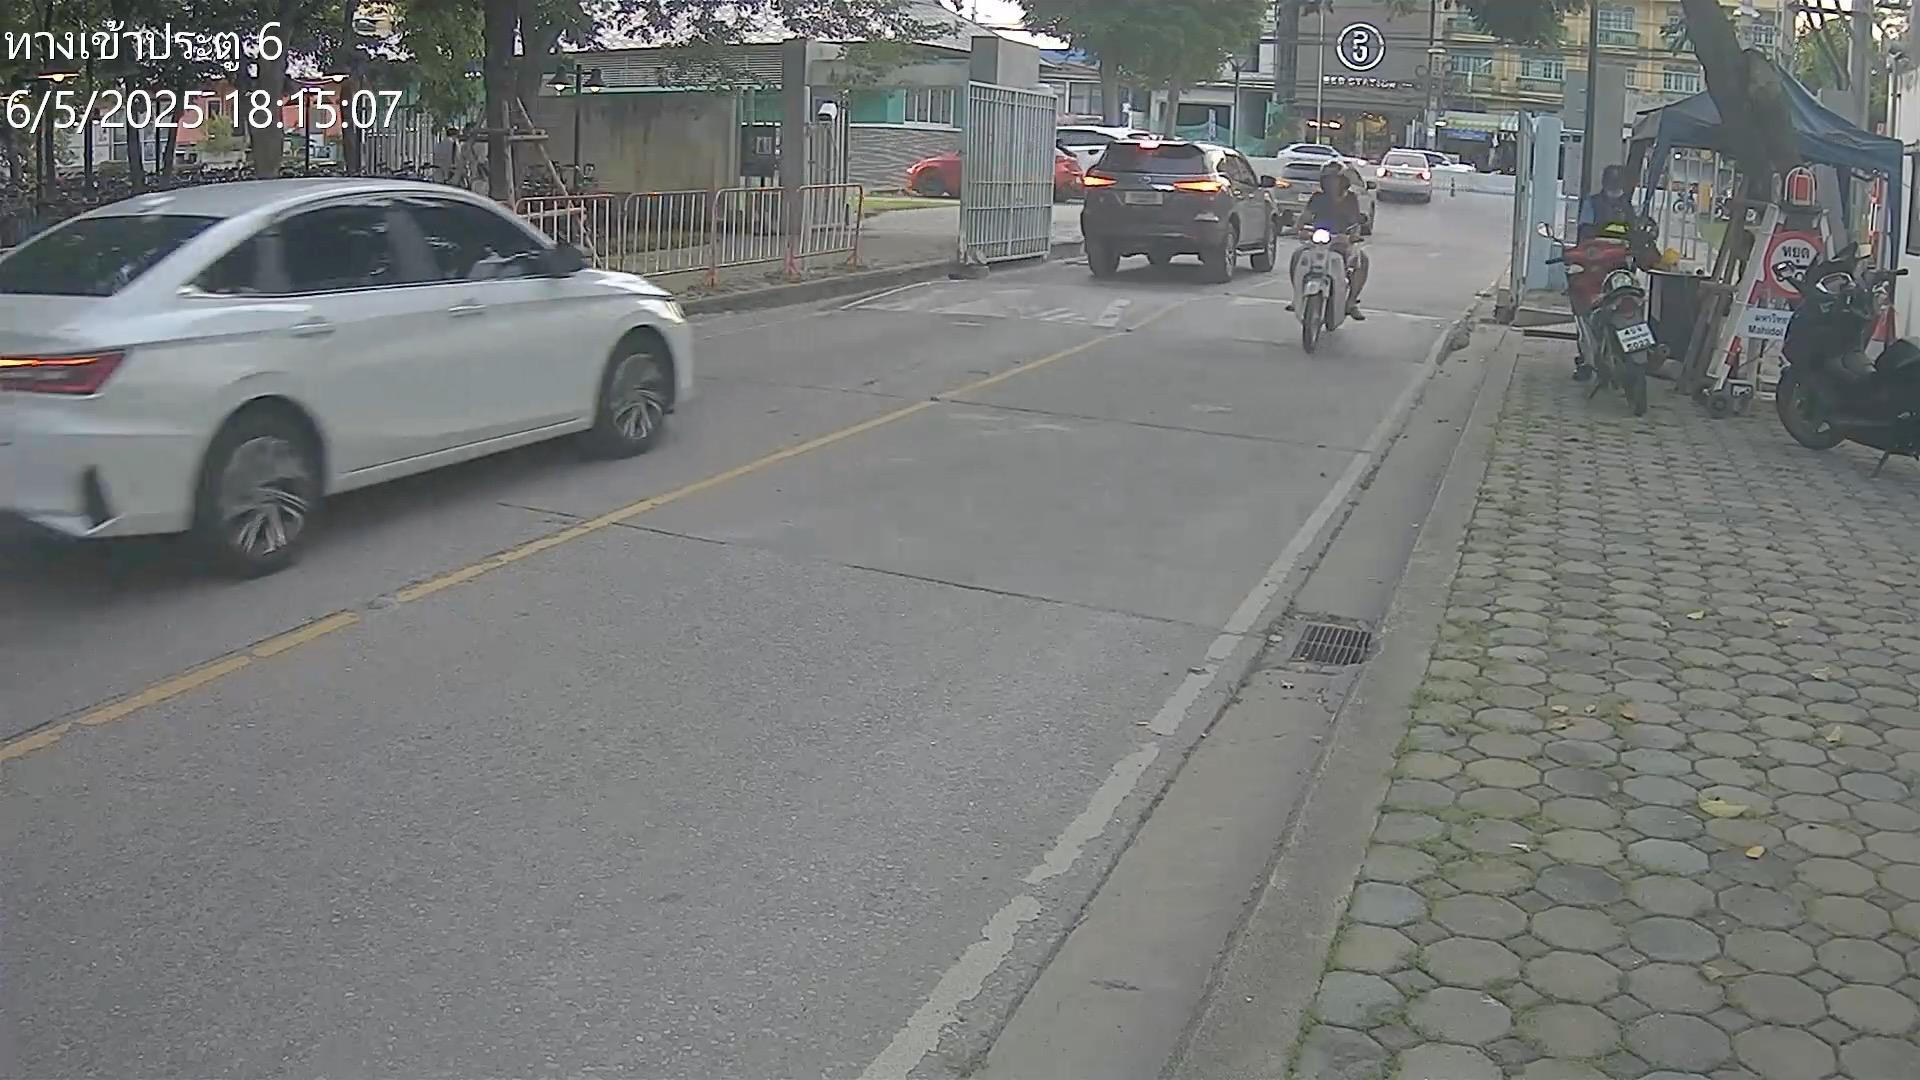With-Helmet: (1319, 158, 1350, 196)
